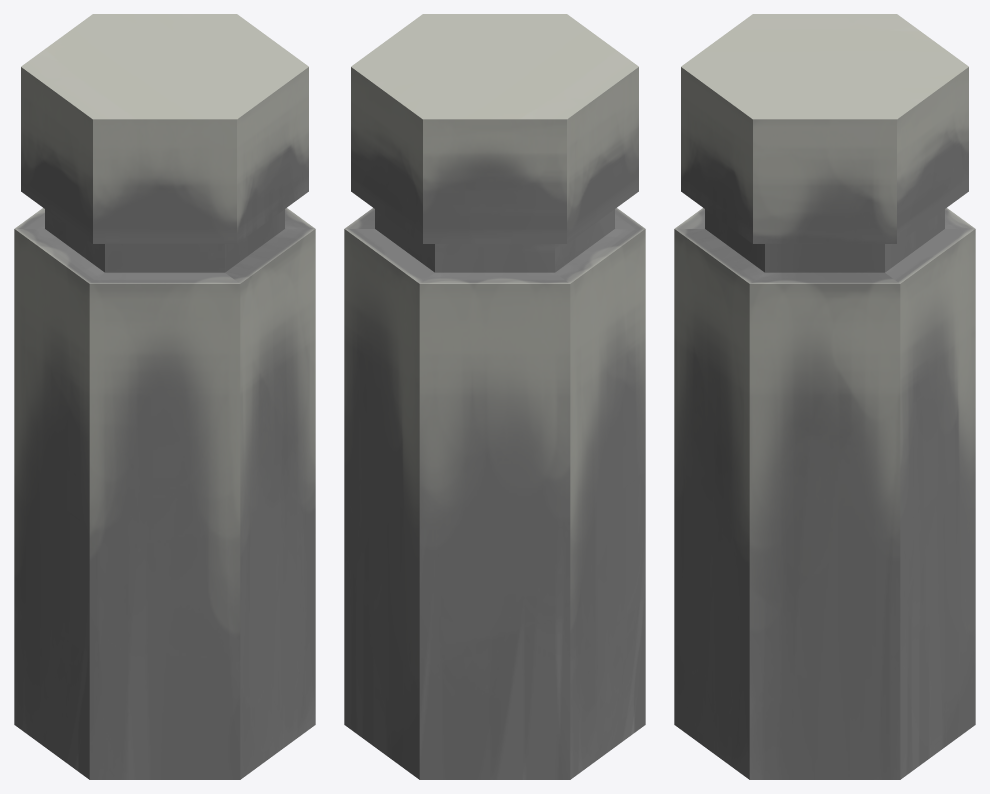
The model's file is Main_1003_obj_06.fbx.
The picture shows the model from 3 angles, left to right: view 1: azimuth 30°, elevation 25°; view 2: azimuth 150°, elevation 25°; view 3: azimuth 270°, elevation 25°; orthographic projection.
Visible parts, largest first — view 1: Cylinder.004; view 2: Cylinder.004; view 3: Cylinder.004.
Part boxes in pixels (x1=…): Cylinder.004: x1=14, y1=14, x2=315, y2=779; Cylinder.004: x1=344, y1=14, x2=645, y2=779; Cylinder.004: x1=674, y1=14, x2=975, y2=779.
Bounding box in the file's own units: 8.68 × 24.16 × 10.02.
